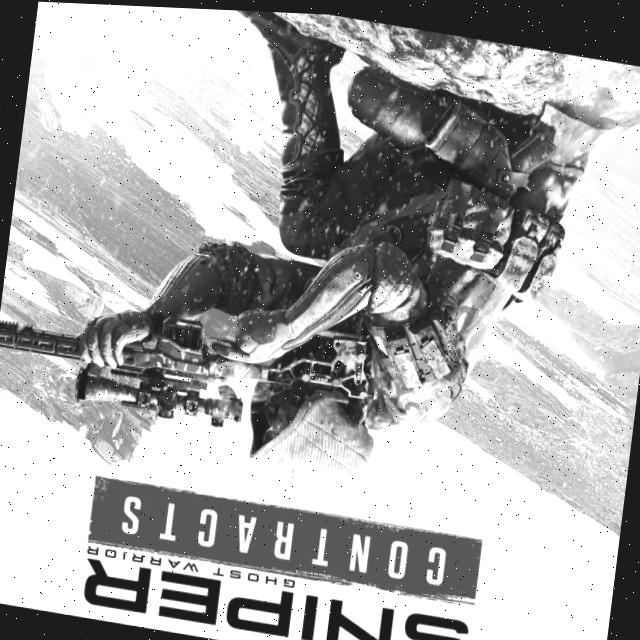firearm: (0, 278, 372, 448)
